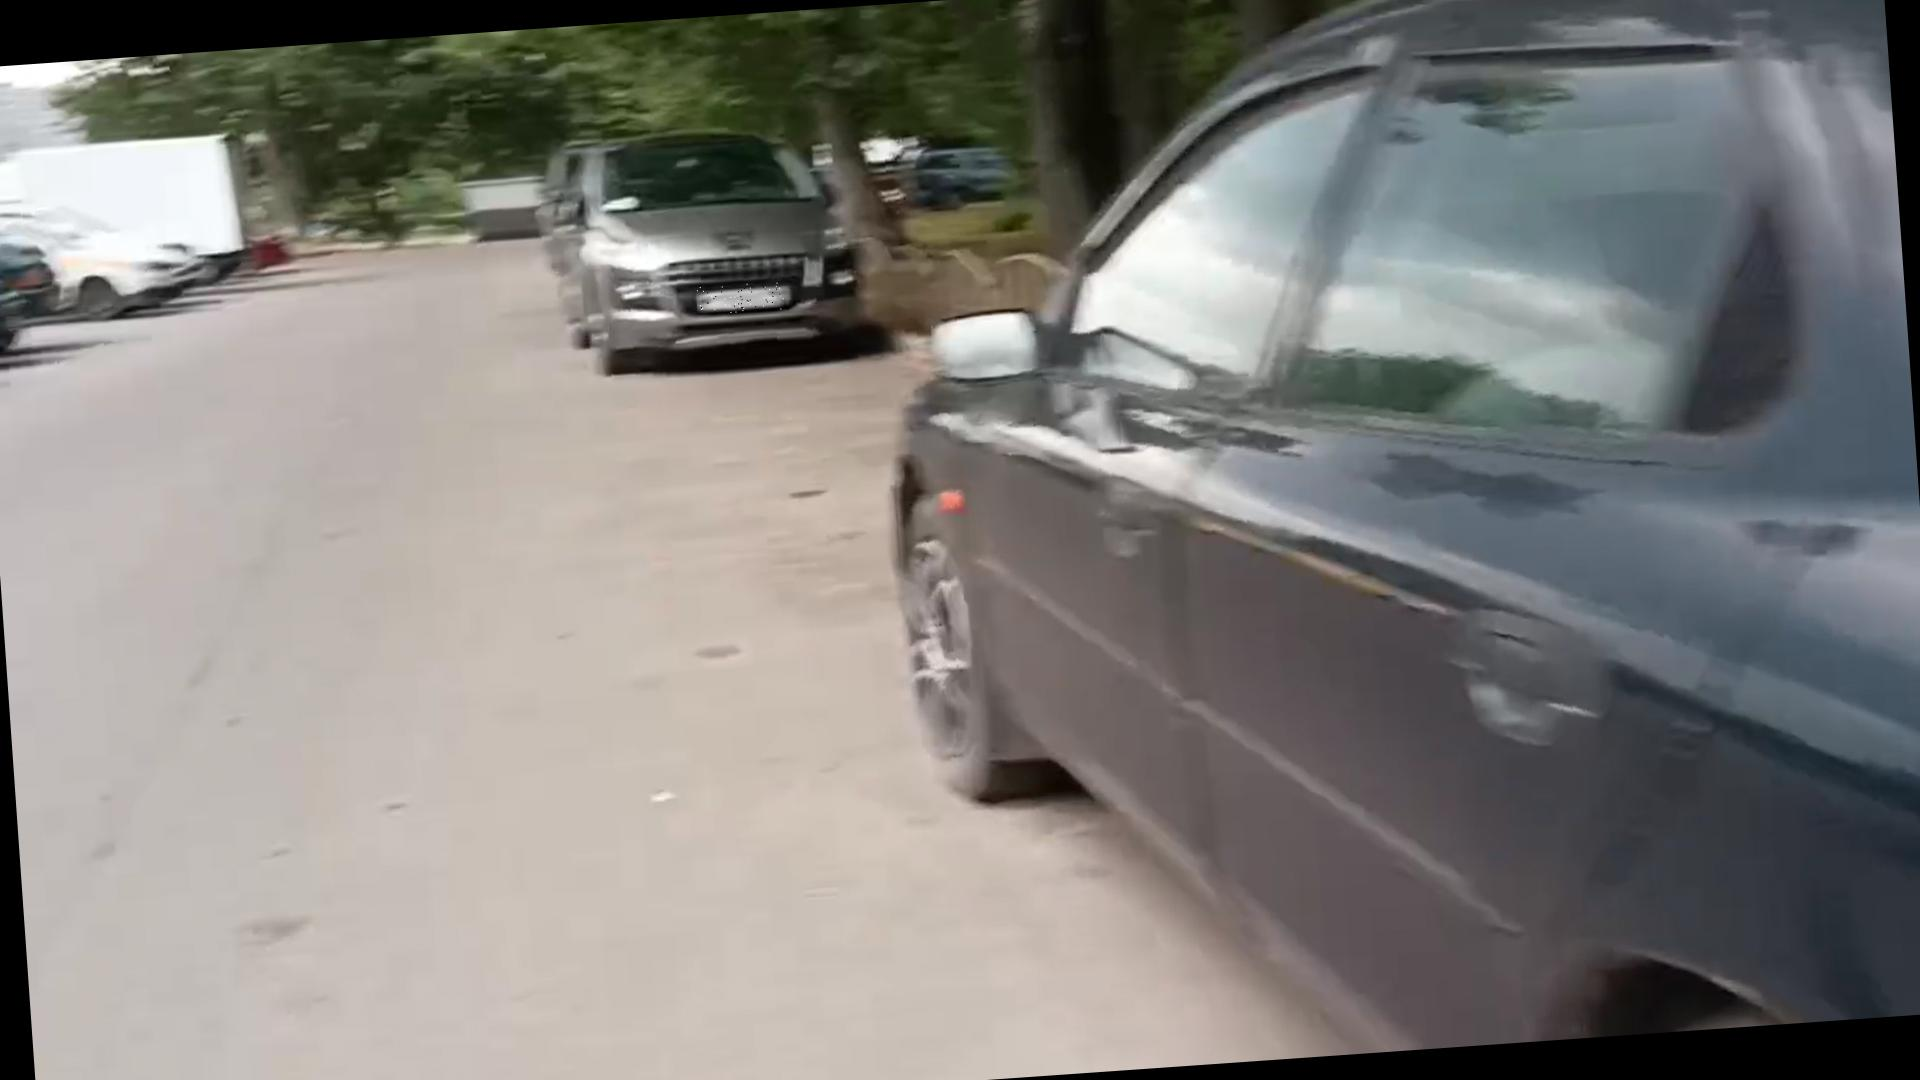plate: (698, 282, 790, 316)
